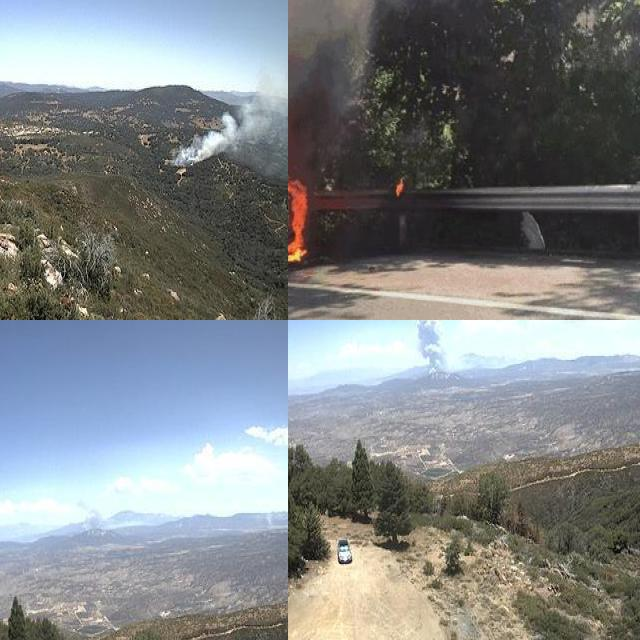smoke: (164, 54, 288, 177), (415, 320, 448, 375), (71, 494, 111, 537)
